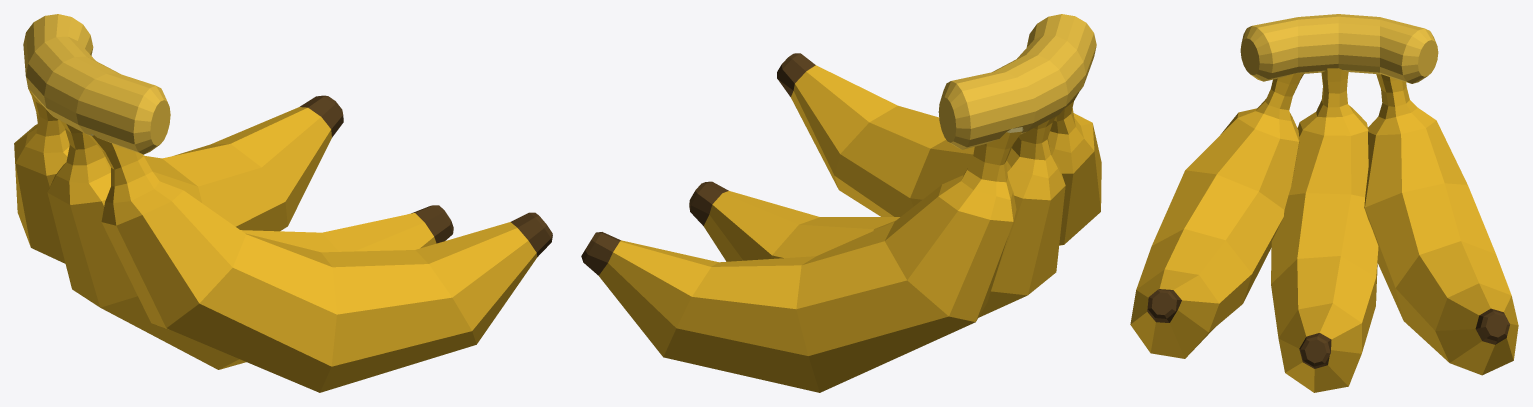
File: 3Bananas.glb
3 views of the same model, side by side, from view 1: azimuth 30°, elevation 25°; view 2: azimuth 150°, elevation 25°; view 3: azimuth 270°, elevation 25° (orthographic). The views are drawn at different scales.
Visible parts, largest first — view 1: Banana; view 2: Banana; view 3: Banana.
Boxes of the visible parts, box(x1,y1,x2,y2) form: Banana: box(14, 14, 552, 392); Banana: box(581, 14, 1101, 392); Banana: box(1130, 14, 1518, 392).
Size of the model in its own units: 0.8965 by 0.7161 by 0.9294.
